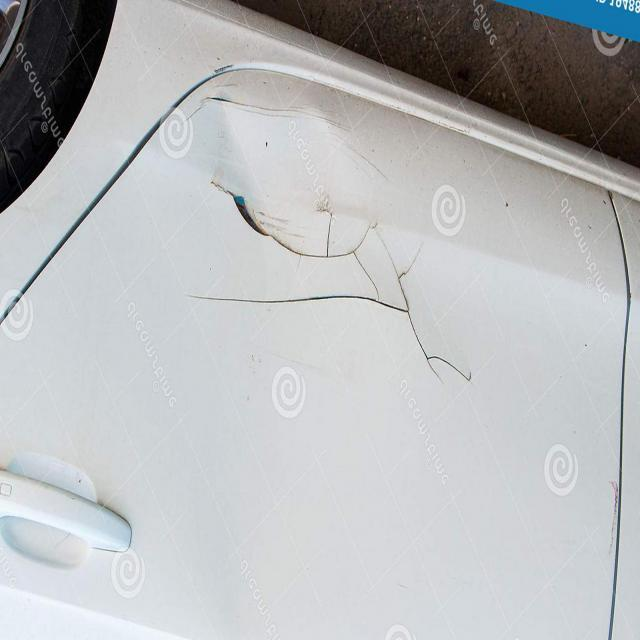dent: (175, 86, 490, 406)
